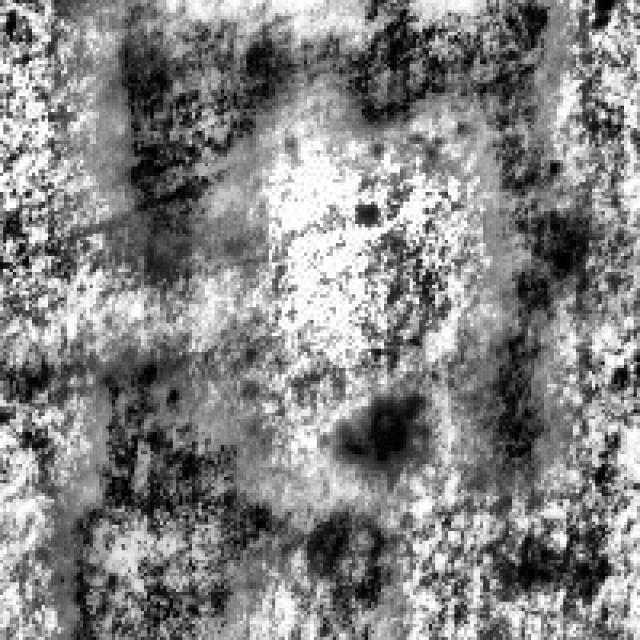Patches: (320, 384, 422, 467)
Scratches: (92, 0, 582, 282), (61, 342, 269, 634), (461, 202, 589, 486), (298, 502, 384, 598)
